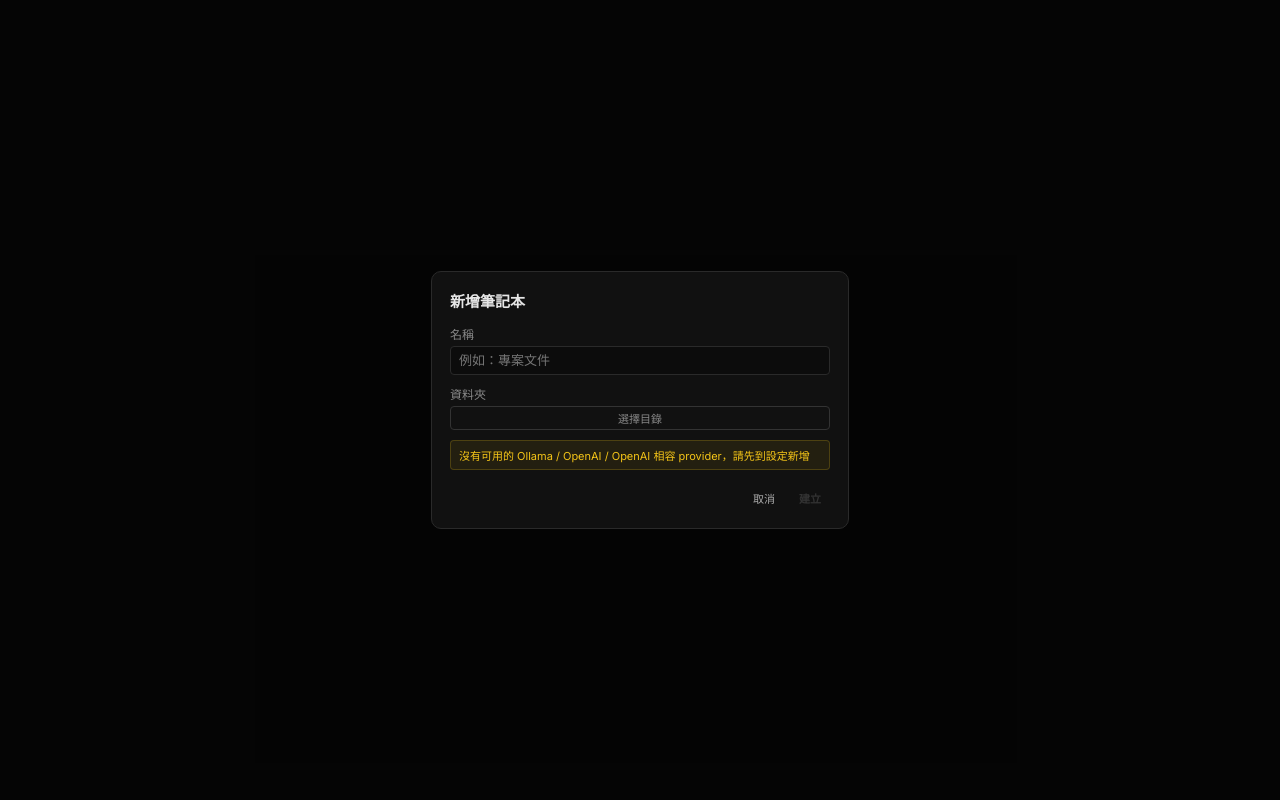
Test case: NotebookCreateDialog model list › keeps creation enabled while the warning is showing
This screenshot has width=1280, height=800.
Type "我的筆記本" into the field with placeholder "例如：專案文件" at (640, 360), box [450,346,830,375]
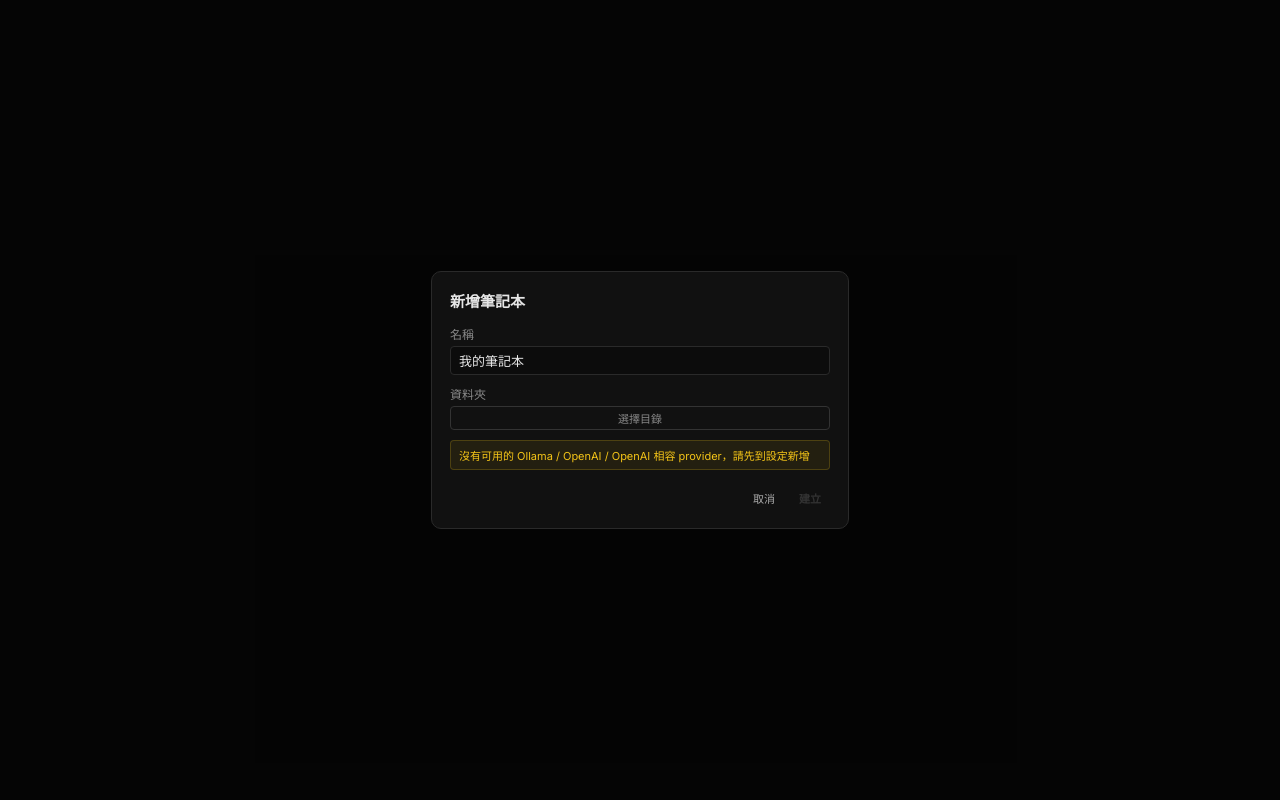
Click the button "選擇目錄" at (640, 418), box [450,406,830,430]
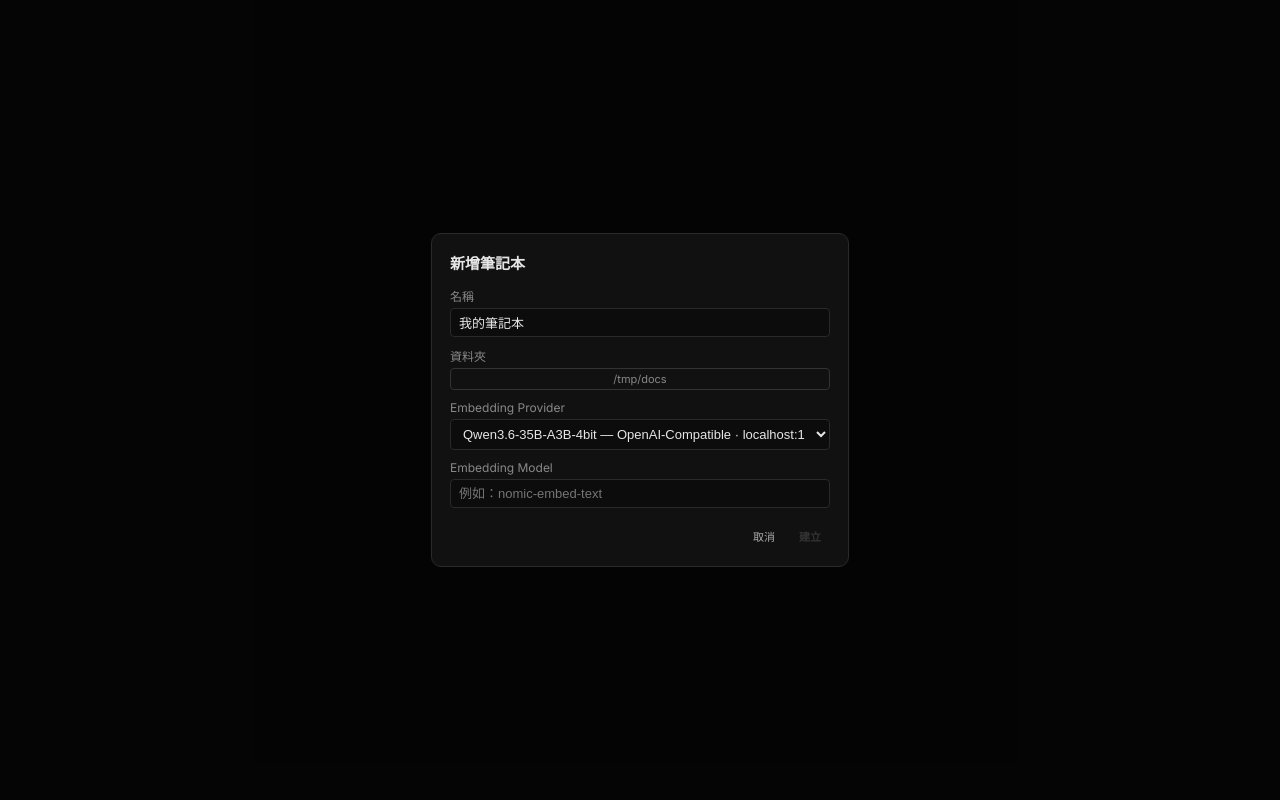
Now the button "/tmp/docs" is shown, box [450,368,830,390]
Type "Qwen3.6-35B-A3B-4bit" into the field with placeholder "例如：nomic-embed-text" at (640, 494), box [450,479,830,508]
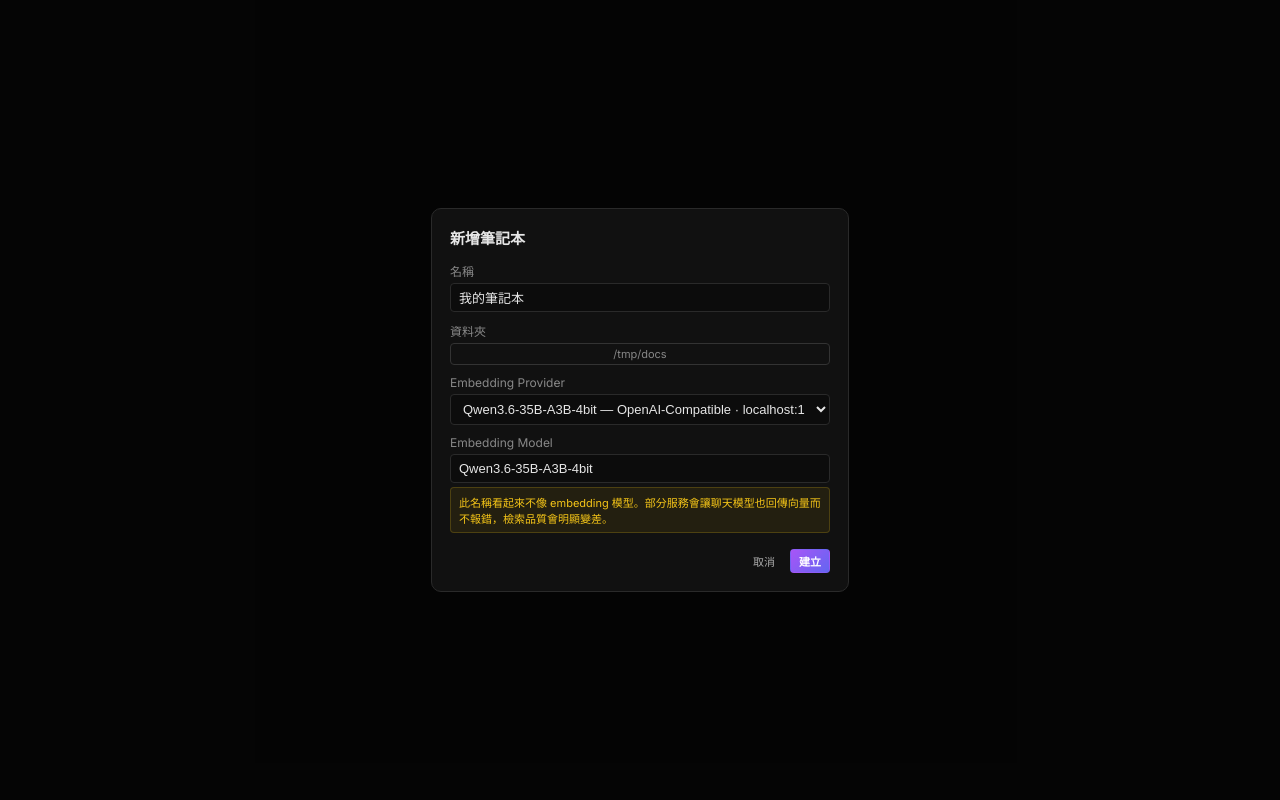
Now the text "此名稱看起來不像 embedding 模型。部分服務會讓聊天模型也回傳向量而不報錯，檢索品質會明顯變差。" is shown, box [450,487,830,533]
Now the button "建立" is enabled, box [790,549,830,573]
